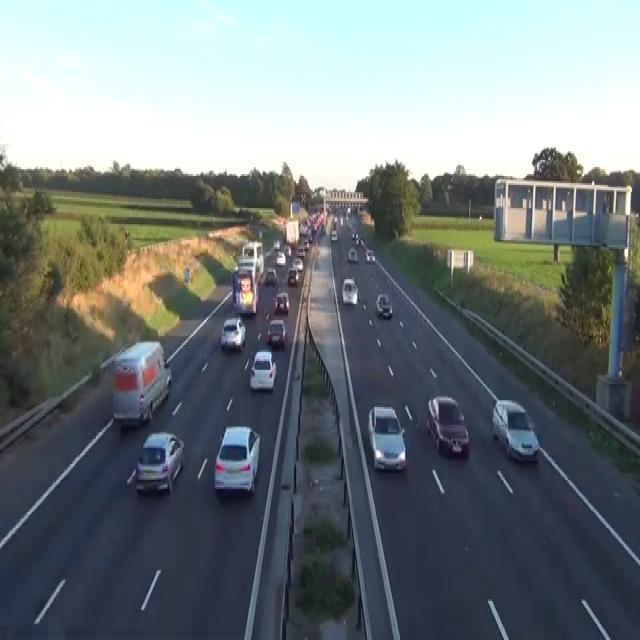Car: (111, 339, 172, 426), (213, 425, 260, 496), (135, 430, 184, 494), (491, 398, 540, 462), (427, 395, 469, 457), (367, 405, 406, 471), (249, 349, 276, 391), (220, 316, 245, 351), (266, 318, 286, 348), (341, 277, 358, 304), (375, 294, 392, 318), (273, 292, 289, 314), (265, 266, 278, 284), (287, 267, 299, 286), (365, 247, 375, 263), (347, 247, 357, 263), (292, 256, 303, 270), (275, 251, 285, 265), (296, 245, 305, 258), (330, 229, 338, 242), (283, 244, 291, 256), (273, 238, 280, 249), (302, 238, 309, 249), (351, 229, 357, 240), (359, 238, 364, 247), (347, 220, 351, 230), (308, 234, 312, 243), (340, 215, 343, 226)
Truck: (232, 240, 264, 315), (282, 219, 299, 247)
